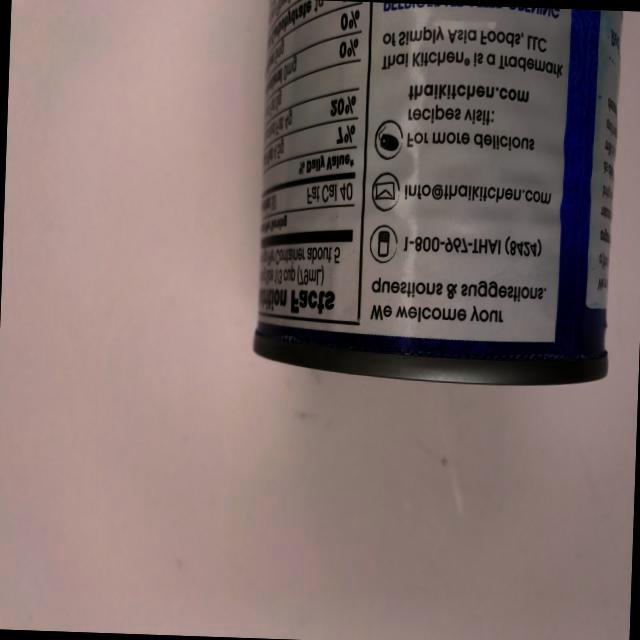metal: (252, 0, 622, 390)
